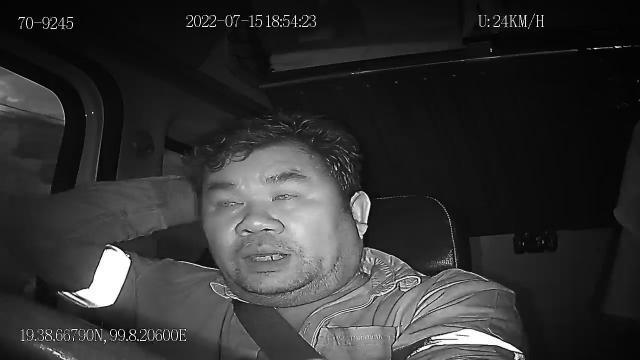SafeDriving: (202, 186, 250, 214), (266, 181, 308, 206)
Seatbelt: (230, 296, 328, 360)
